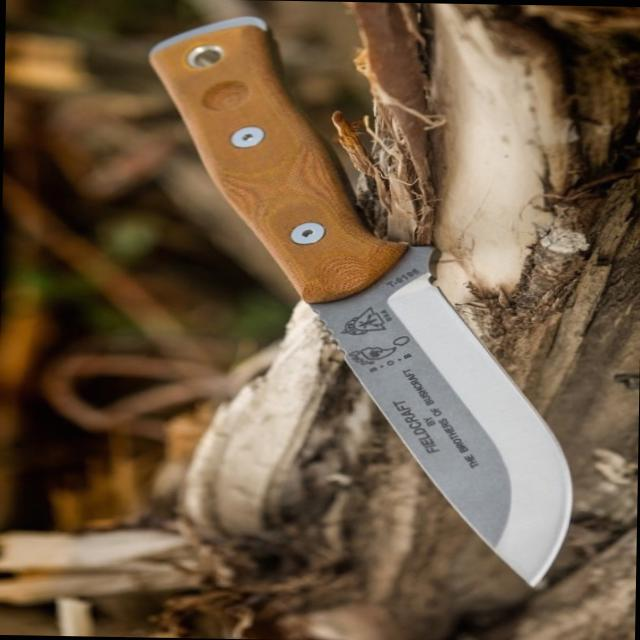knife: (283, 230, 597, 597)
